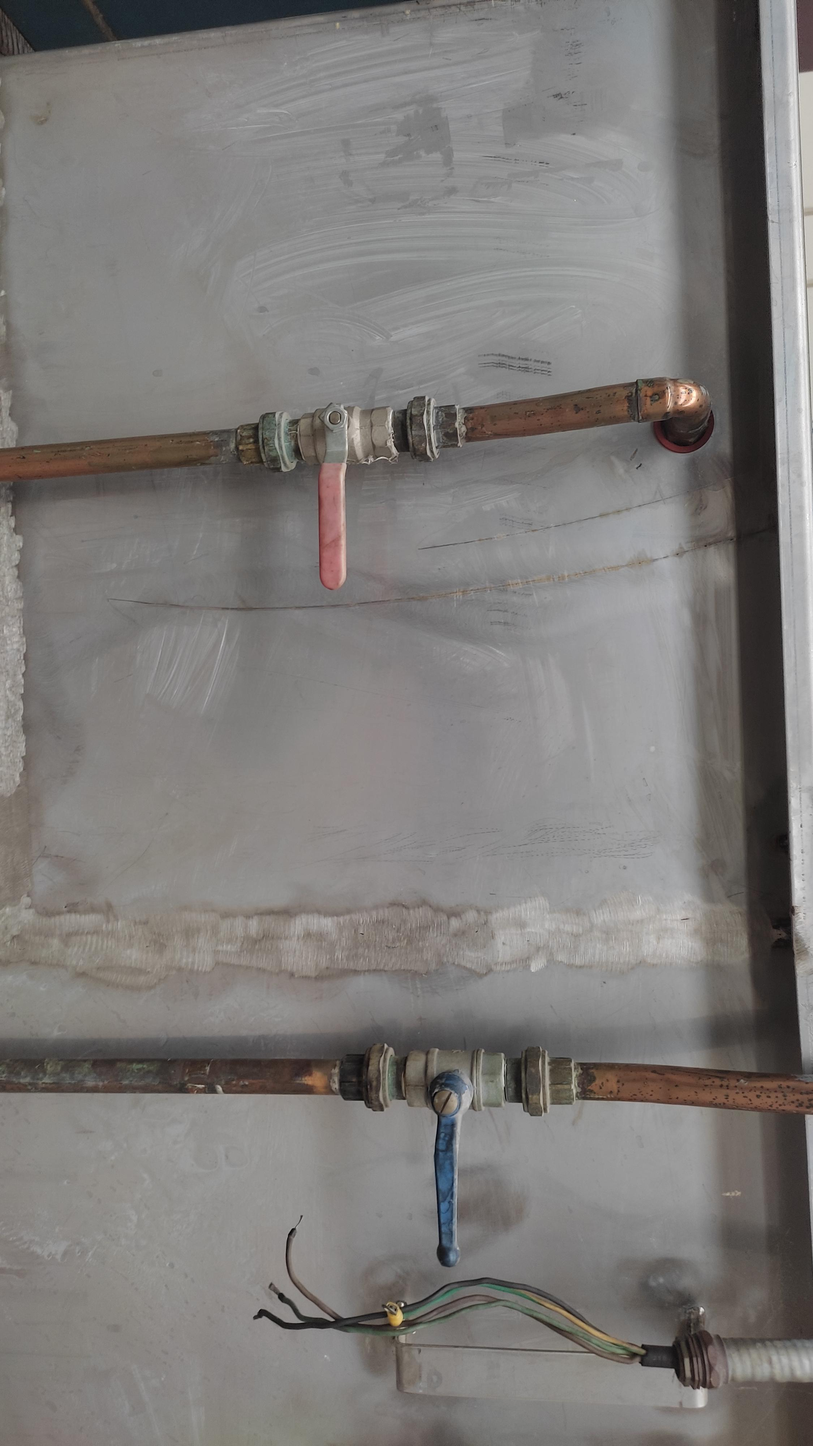closed valve: (400, 1035, 512, 1273), (293, 398, 402, 594)
